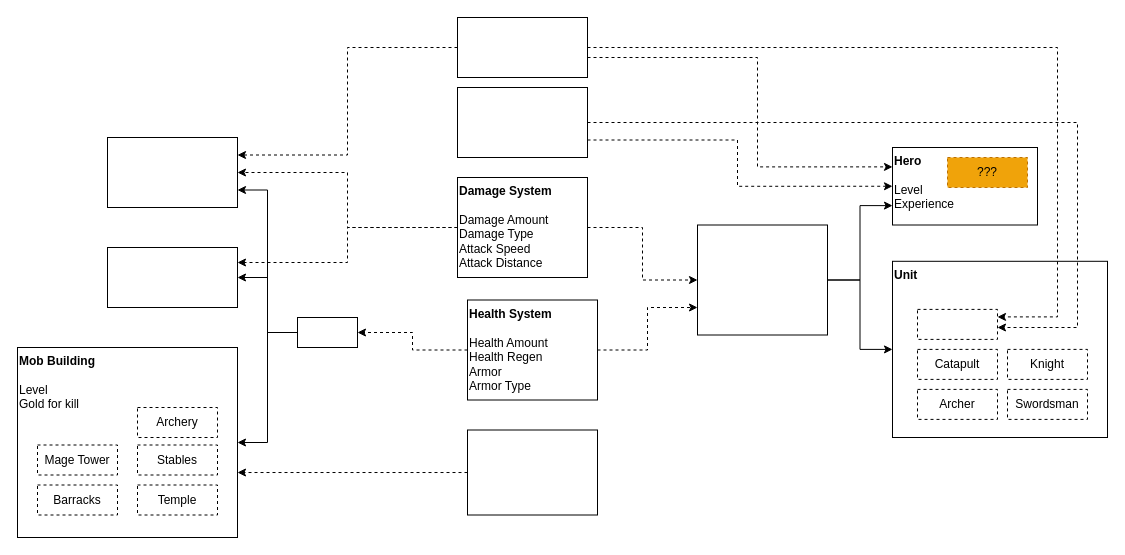
This 1125x555 diagram has some shape labels left out. Each missing label, with the centre of its shape:
"Abilities System Abilities" goes at pixel 522 47.
"Building" goes at pixel 327 332.
"Castle Level Spells" goes at pixel 172 172.
"Mage" goes at pixel 957 323.
"Mana System Mana Mana Regen" goes at pixel 522 122.
"Mob Rage Distance Spawn Interaval Gold for kill Experience for kill" goes at pixel 762 279.
"Mob Spawning System Mob Type Mob Amount" goes at pixel 532 472.
"Tower Gold for kill" goes at pixel 172 277.
